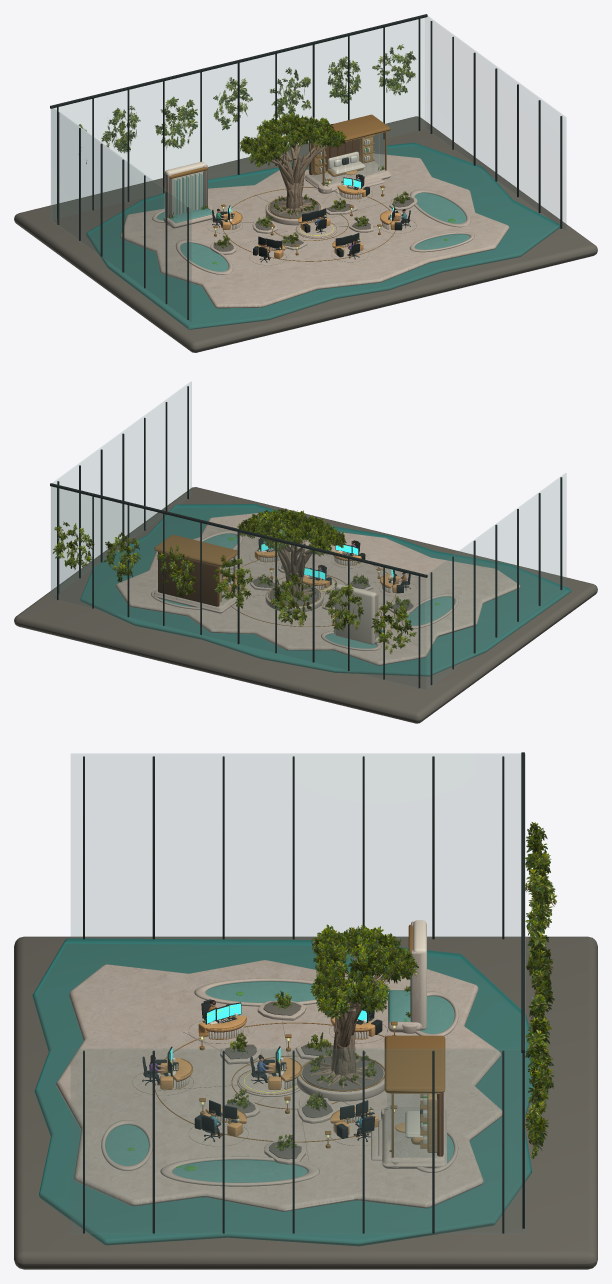
File: garden-office-v4.glb
3 renders of one model, top to bottom at view 1: azimuth 30°, elevation 25°; view 2: azimuth 150°, elevation 25°; view 3: azimuth 270°, elevation 25°, orthographic. The views are drawn at different scales.
Visible parts, largest first — view 1: RuntimeBatch_Low_iron_architectural_glass, RuntimeBatch_Limestone_joint, RuntimeBatch_Limestone_warm, RuntimeBatch_Shallow_turquoise_water, RuntimeBatch_Ficus_cluster_atlas, RuntimeBatch_Graphite, RuntimeBatch_Ivory_fluted_stone, RuntimeBatch_Champagne_bronze, RuntimeBatch_Old_ficus_bark, RuntimeBatch_Quarter_sawn_oak, RuntimeBatch_Dark_oak; view 2: RuntimeBatch_Low_iron_architectural_glass, RuntimeBatch_Limestone_joint, RuntimeBatch_Limestone_warm, RuntimeBatch_Shallow_turquoise_water, RuntimeBatch_Ficus_cluster_atlas, RuntimeBatch_Graphite, RuntimeBatch_Champagne_bronze, RuntimeBatch_Ivory_fluted_stone, RuntimeBatch_Dark_oak, RuntimeBatch_Old_ficus_bark, RuntimeBatch_Quarter_sawn_oak; view 3: RuntimeBatch_Low_iron_architectural_glass, RuntimeBatch_Limestone_joint, RuntimeBatch_Limestone_warm, RuntimeBatch_Shallow_turquoise_water, RuntimeBatch_Ficus_cluster_atlas, RuntimeBatch_Graphite, RuntimeBatch_Champagne_bronze, RuntimeBatch_Quarter_sawn_oak, RuntimeBatch_Ivory_fluted_stone, RuntimeBatch_Old_ficus_bark, RuntimeBatch_Dark_oak.
Boxes of the visible parts, <box> form: RuntimeBatch_Low_iron_architectural_glass: <box>51,16,566,322</box>; RuntimeBatch_Limestone_joint: <box>14,116,597,352</box>; RuntimeBatch_Limestone_warm: <box>120,153,509,308</box>; RuntimeBatch_Shallow_turquoise_water: <box>86,142,560,329</box>; RuntimeBatch_Ficus_cluster_atlas: <box>79,44,416,248</box>; RuntimeBatch_Graphite: <box>50,14,562,319</box>; RuntimeBatch_Ivory_fluted_stone: <box>164,139,392,254</box>; RuntimeBatch_Champagne_bronze: <box>169,114,396,261</box>; RuntimeBatch_Old_ficus_bark: <box>253,132,327,216</box>; RuntimeBatch_Quarter_sawn_oak: <box>222,131,400,258</box>; RuntimeBatch_Dark_oak: <box>221,138,402,258</box>; RuntimeBatch_Low_iron_architectural_glass: <box>51,382,566,689</box>; RuntimeBatch_Limestone_joint: <box>14,487,597,723</box>; RuntimeBatch_Limestone_warm: <box>116,513,520,665</box>; RuntimeBatch_Shallow_turquoise_water: <box>80,504,571,676</box>; RuntimeBatch_Ficus_cluster_atlas: <box>52,508,416,653</box>; RuntimeBatch_Graphite: <box>50,386,562,688</box>; RuntimeBatch_Champagne_bronze: <box>154,534,396,626</box>; RuntimeBatch_Ivory_fluted_stone: <box>230,549,392,644</box>; RuntimeBatch_Dark_oak: <box>158,551,402,606</box>; RuntimeBatch_Old_ficus_bark: <box>258,530,317,603</box>; RuntimeBatch_Quarter_sawn_oak: <box>157,550,399,602</box>; RuntimeBatch_Low_iron_architectural_glass: <box>71,753,525,1233</box>; RuntimeBatch_Limestone_joint: <box>14,936,597,1269</box>; RuntimeBatch_Limestone_warm: <box>56,921,502,1211</box>; RuntimeBatch_Shallow_turquoise_water: <box>32,938,533,1246</box>; RuntimeBatch_Ficus_cluster_atlas: <box>167,822,556,1158</box>; RuntimeBatch_Graphite: <box>83,752,524,1233</box>; RuntimeBatch_Champagne_bronze: <box>155,924,445,1157</box>; RuntimeBatch_Quarter_sawn_oak: <box>160,1015,440,1152</box>; RuntimeBatch_Ivory_fluted_stone: <box>172,920,427,1143</box>; RuntimeBatch_Old_ficus_bark: <box>309,954,406,1088</box>; RuntimeBatch_Dark_oak: <box>155,1024,443,1156</box>.
Bounding box in the file's own units: 37 × 11.33 × 28.4.
26 materials, 4 textured.
